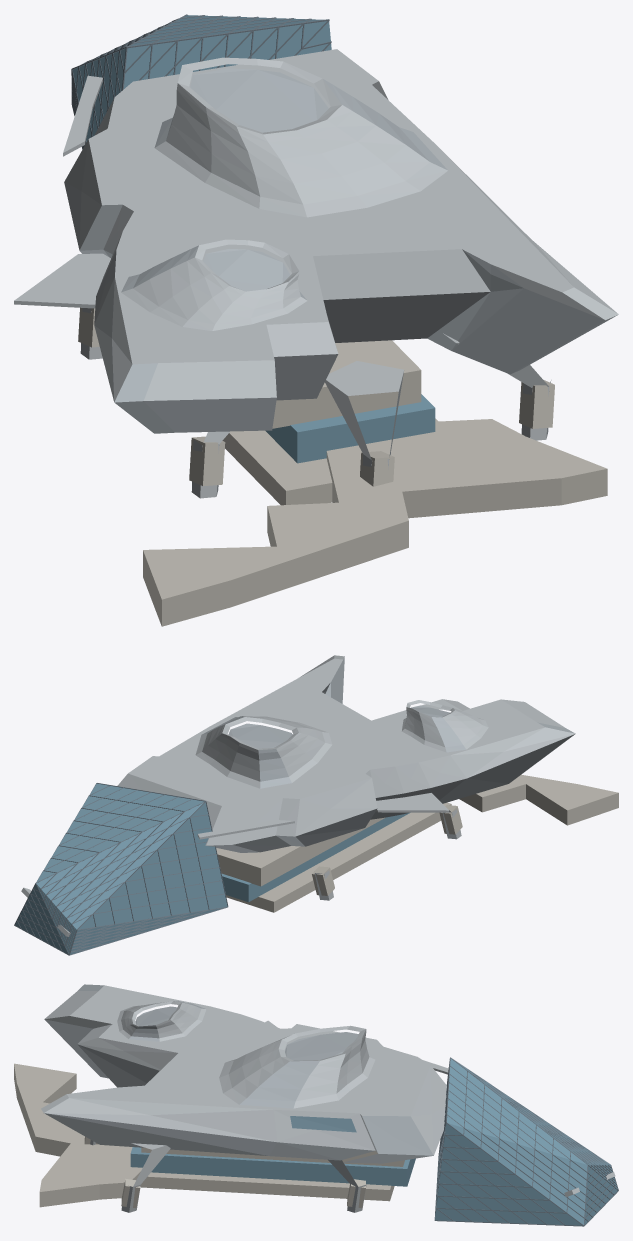
File: musee-des-confluences-far.glb
3 renders of one model, top to bottom at view 1: azimuth 30°, elevation 25°; view 2: azimuth 150°, elevation 25°; view 3: azimuth 270°, elevation 25°, orthographic. The views are drawn at different scales.
Parts seen in each view (by area): view 1: musee-des-confluences-0-metal, musee-des-confluences-0-concrete, musee-des-confluences-0-facet, musee-des-confluences-0-glass, musee-des-confluences-0-frame; view 2: musee-des-confluences-0-metal, musee-des-confluences-0-glass, musee-des-confluences-0-concrete, musee-des-confluences-0-facet, musee-des-confluences-0-frame; view 3: musee-des-confluences-0-metal, musee-des-confluences-0-glass, musee-des-confluences-0-facet, musee-des-confluences-0-concrete, musee-des-confluences-0-frame, musee-des-confluences-0-glow.
Boxes of the visible parts, box(x1,y1,x2,y2) form: musee-des-confluences-0-metal: box(14, 49, 618, 498); musee-des-confluences-0-concrete: box(78, 307, 607, 626); musee-des-confluences-0-facet: box(79, 68, 617, 495); musee-des-confluences-0-glass: box(72, 15, 435, 463); musee-des-confluences-0-frame: box(71, 14, 331, 149); musee-des-confluences-0-metal: box(21, 655, 575, 936); musee-des-confluences-0-glass: box(15, 783, 410, 954); musee-des-confluences-0-concrete: box(216, 774, 618, 912); musee-des-confluences-0-facet: box(202, 656, 575, 900); musee-des-confluences-0-frame: box(14, 783, 228, 955); musee-des-confluences-0-metal: box(41, 985, 615, 1212); musee-des-confluences-0-glass: box(130, 1059, 617, 1225); musee-des-confluences-0-facet: box(44, 984, 433, 1212); musee-des-confluences-0-concrete: box(14, 1063, 404, 1208); musee-des-confluences-0-frame: box(434, 1057, 618, 1226); musee-des-confluences-0-glow: box(290, 1116, 356, 1132).
Bounding box in the file's own units: 98.12 × 41 × 158.
